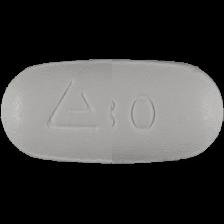52544-691: (0, 0, 224, 224)
